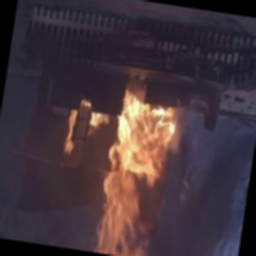fire: (85, 92, 194, 256)
